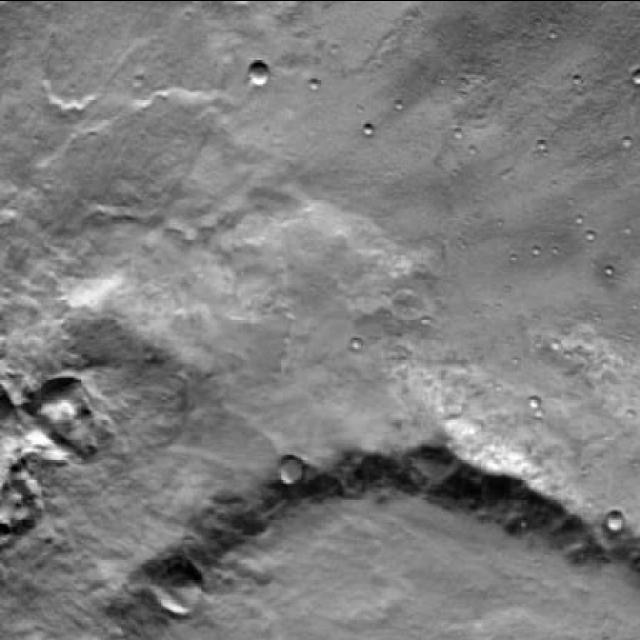crater: (72, 457, 640, 640), (23, 380, 100, 466), (157, 563, 200, 611), (278, 453, 304, 482), (250, 62, 268, 82), (606, 512, 624, 532)
